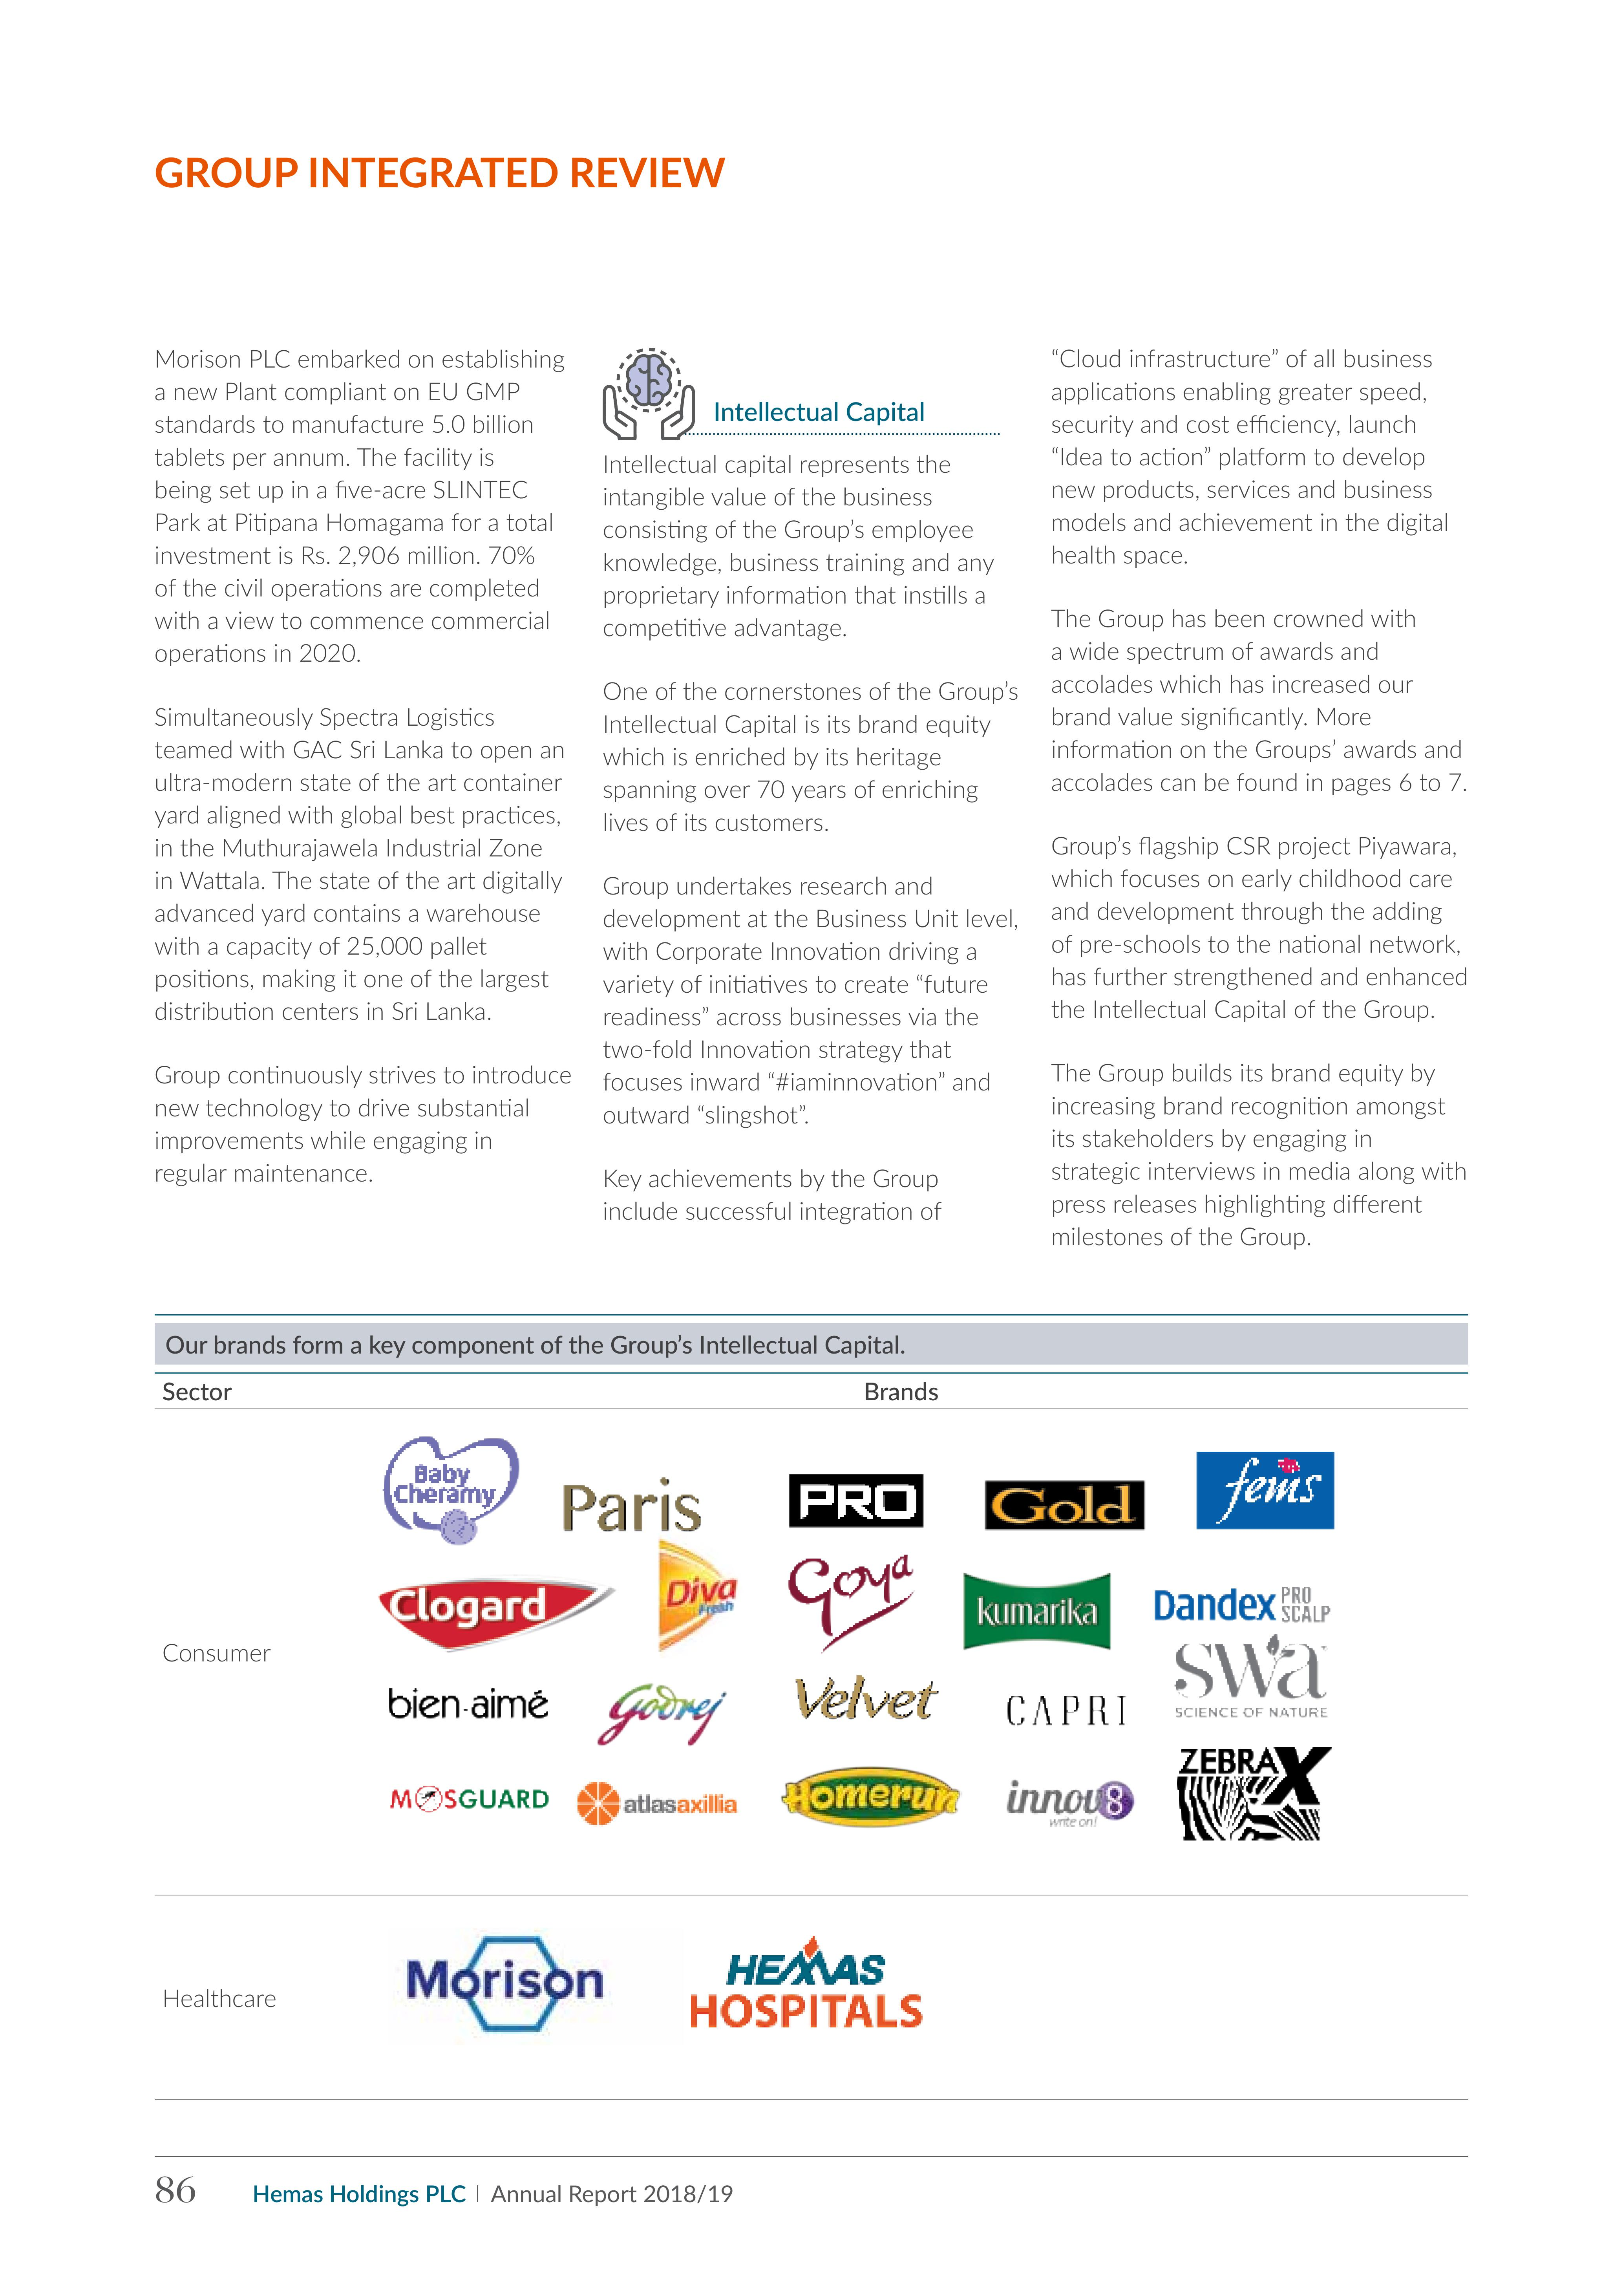table: (148, 1307, 1479, 2170)
